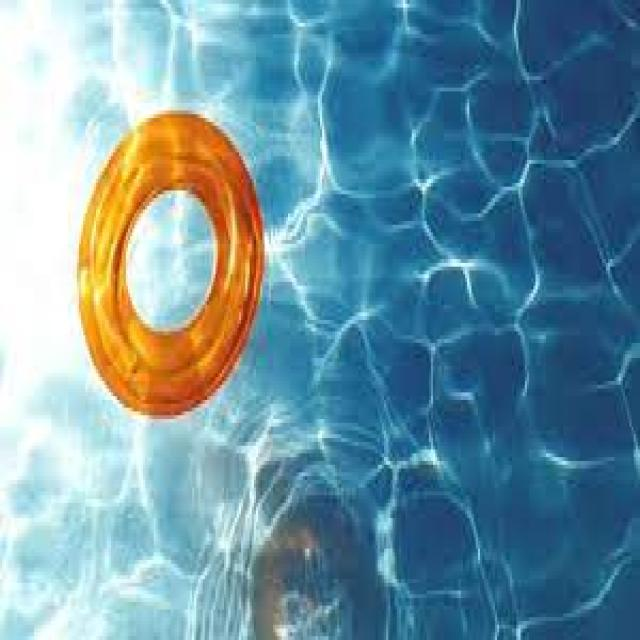lifesaver: (80, 115, 268, 411)
